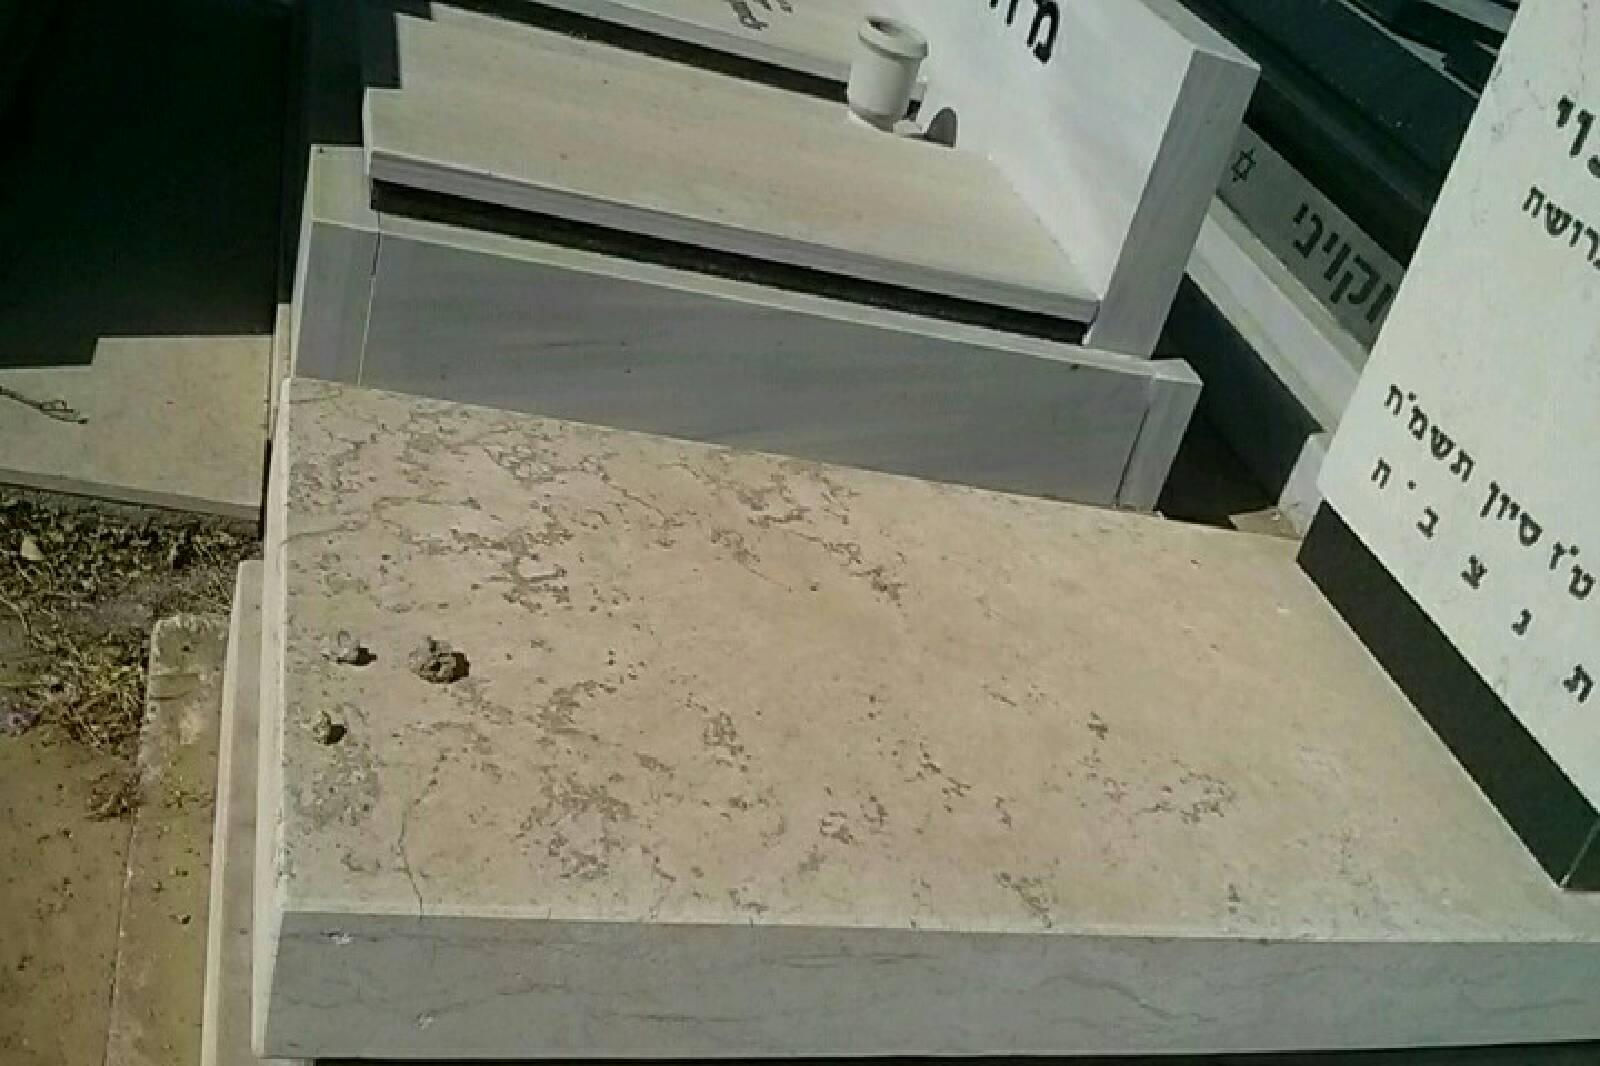vault: (95, 21, 1582, 1055)
